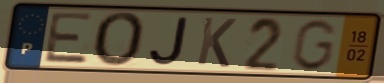2: (240, 15, 286, 73)
E: (41, 11, 97, 66)
G: (289, 18, 340, 73)
J: (146, 15, 190, 68)
K: (194, 15, 239, 70)
O: (92, 10, 148, 69)
